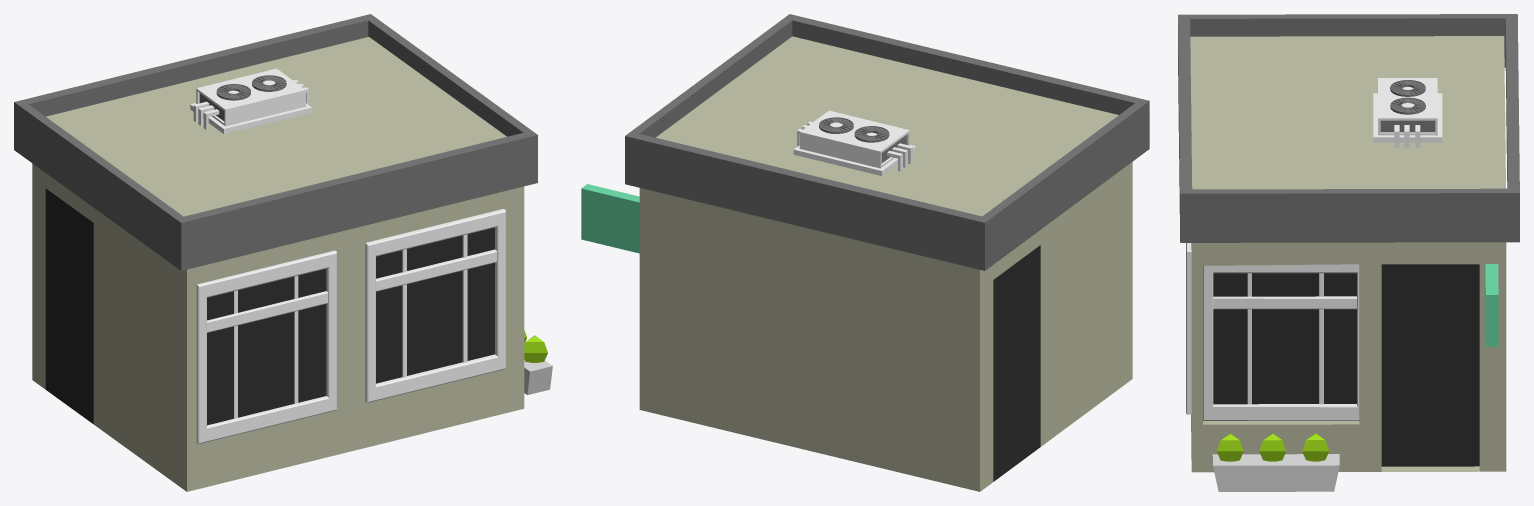
Rendered from Small_Cabin_tran.glb.
3 views of the same model, side by side, from view 1: azimuth 30°, elevation 25°; view 2: azimuth 150°, elevation 25°; view 3: azimuth 270°, elevation 25° (orthographic). The views are drawn at different scales.
Parts seen in each view (by area): view 1: Cube.353, Plane.035, London Police Service Headquarters, 601 Dundas St, London, . (×2), Cube.13379, Cube.358; view 2: Cube.353, Plane.035, Cube.13379, Cube.354; view 3: Cube.353, Plane.035, London Police Service Headquarters, 601 Dundas St, London, . (×2), Cube.13379, Cube.358, Cube.354, Sphere, Sphere.001, Sphere.002.
Boxes of the visible parts, x1=… form: Cube.353: x1=32, y1=37, x2=524, y2=491; Plane.035: x1=14, y1=14, x2=537, y2=270; London Police Service Headquarters, 601 Dundas St, London, . (×2): x1=196, y1=209, x2=505, y2=444; Cube.13379: x1=190, y1=68, x2=311, y2=133; Cube.358: x1=524, y1=360, x2=552, y2=394; Cube.353: x1=639, y1=36, x2=1132, y2=491; Plane.035: x1=625, y1=14, x2=1149, y2=270; Cube.13379: x1=793, y1=110, x2=915, y2=175; Cube.354: x1=581, y1=184, x2=639, y2=253; Cube.353: x1=1190, y1=36, x2=1506, y2=472; Plane.035: x1=1178, y1=14, x2=1519, y2=242; London Police Service Headquarters, 601 Dundas St, London, . (×2): x1=1186, y1=243, x2=1359, y2=420; Cube.13379: x1=1373, y1=78, x2=1442, y2=147; Cube.358: x1=1212, y1=454, x2=1339, y2=491; Cube.354: x1=1485, y1=264, x2=1498, y2=346; Sphere: x1=1302, y1=433, x2=1329, y2=461; Sphere.001: x1=1259, y1=433, x2=1286, y2=461; Sphere.002: x1=1216, y1=433, x2=1243, y2=461.
Bounding box in the file's own units: 0.1467 × 0.0971 × 0.1029.
